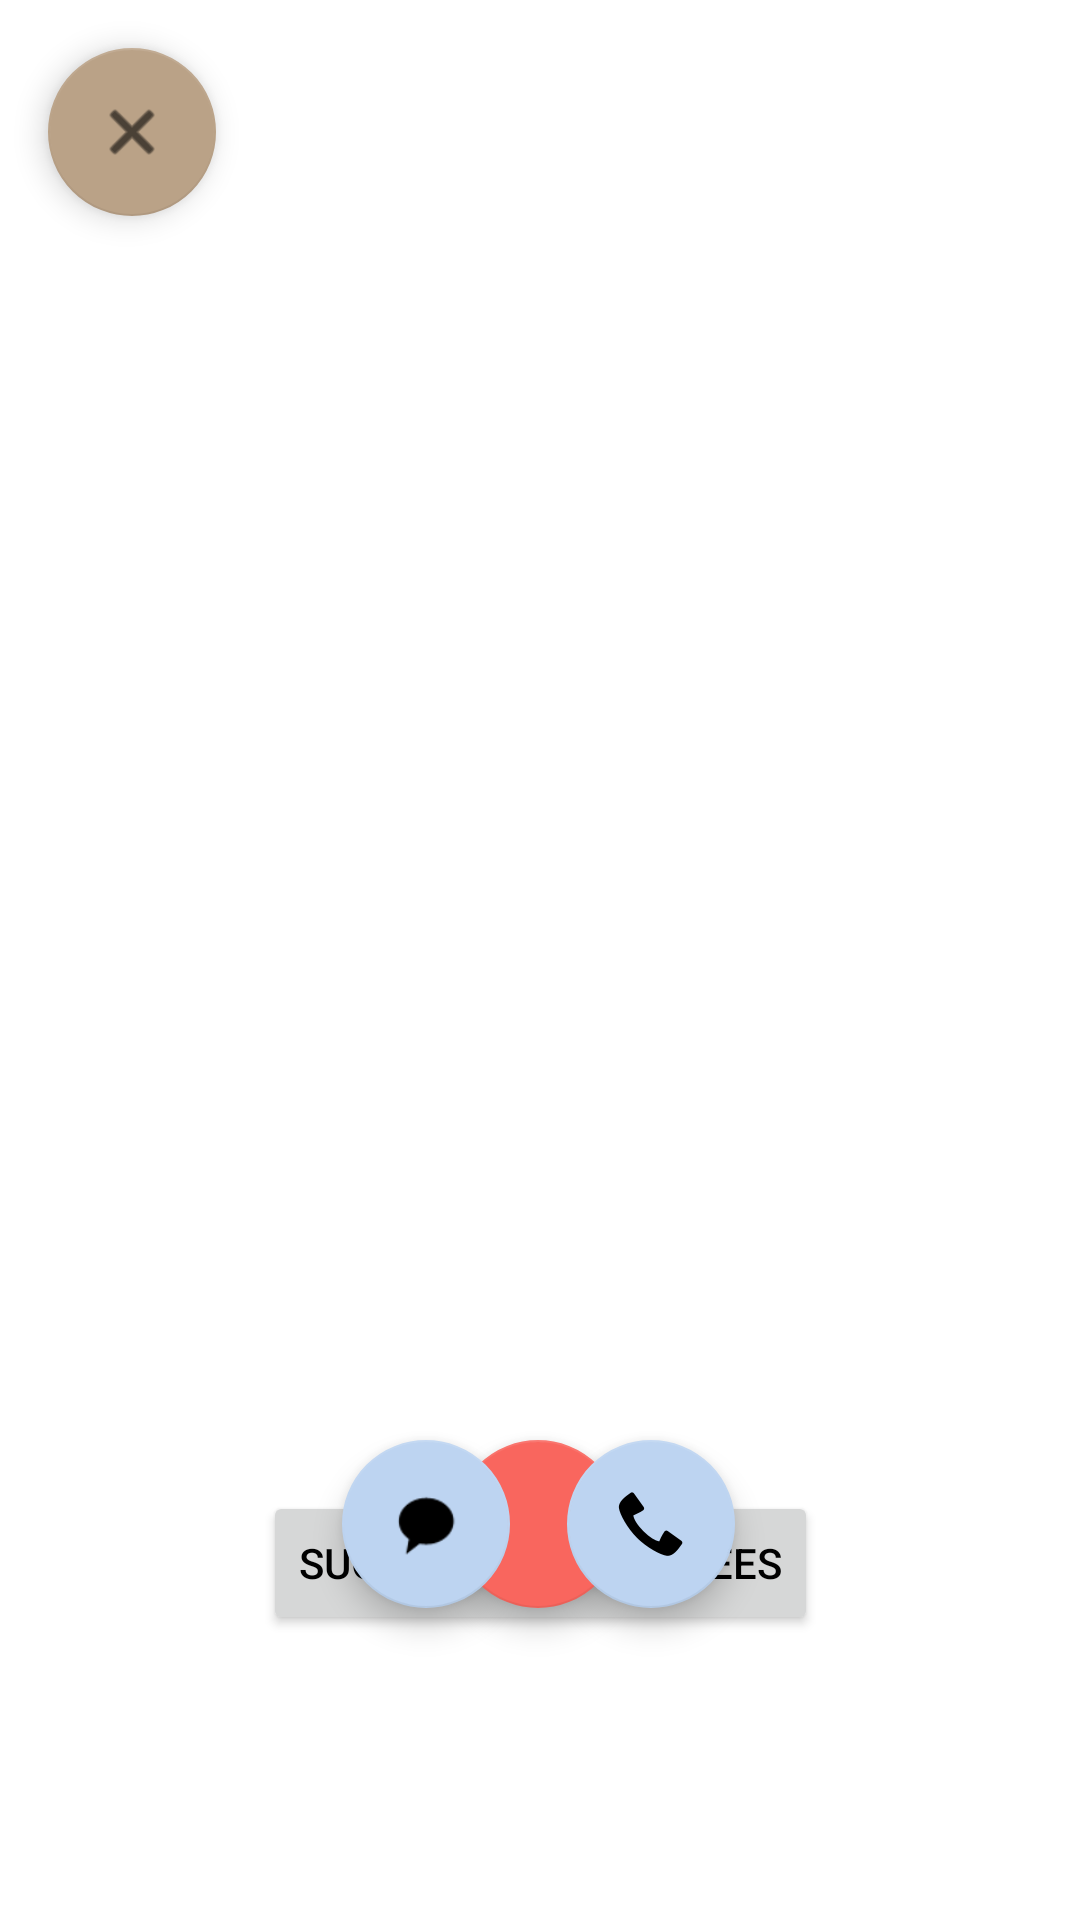

Point at icon controls on the screen. Image size 1080 x 1920, points as point (x, y).
close clear cancel: point (132, 132)
phone call: point (651, 1524)
sym action chat: point (426, 1524)
